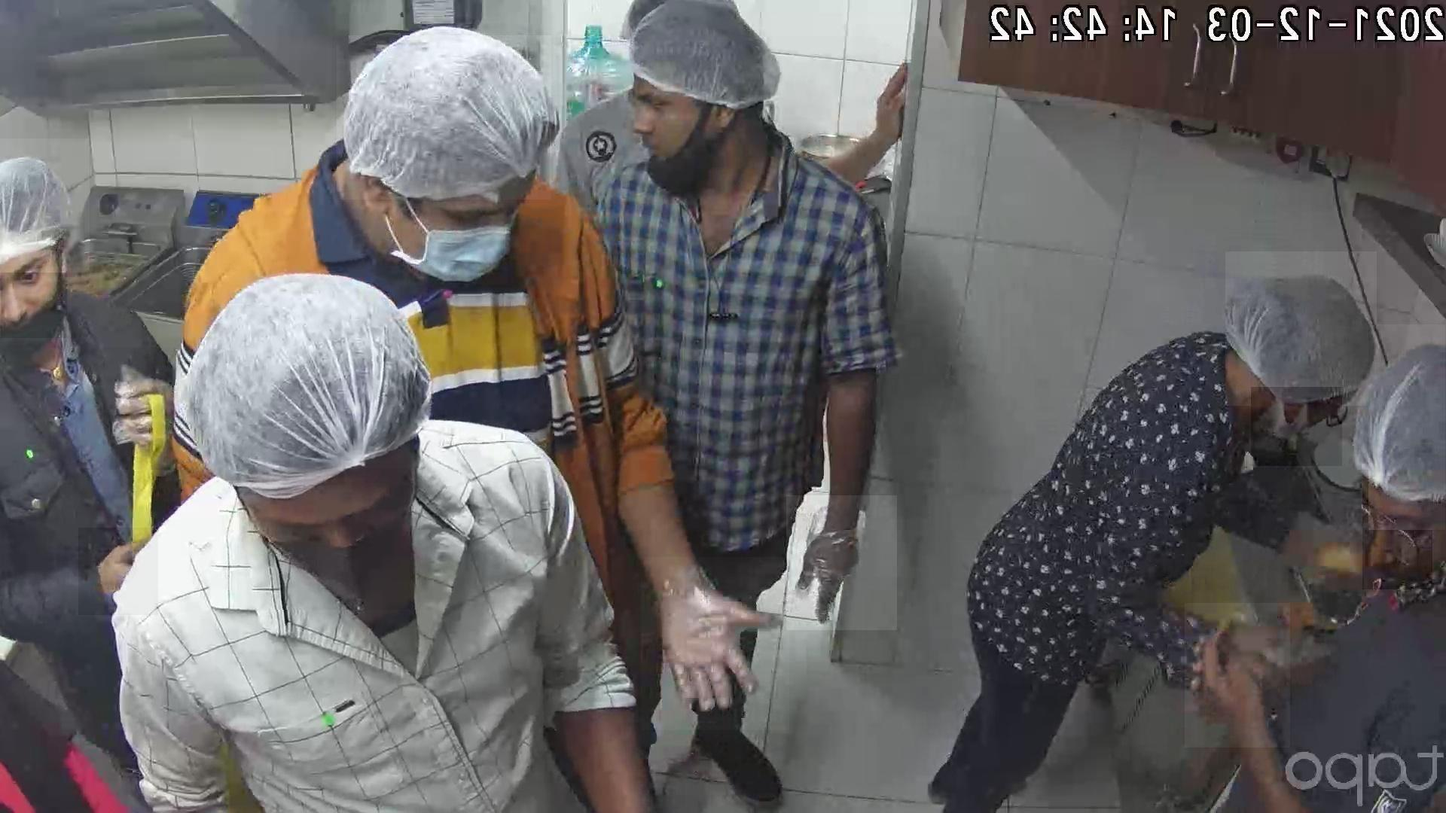apron: (641, 558, 789, 731), (786, 495, 897, 630), (104, 347, 180, 470)
gloves: (337, 36, 552, 200), (1226, 252, 1377, 406), (618, 3, 788, 107), (1369, 324, 1446, 530), (0, 139, 90, 273), (1362, 523, 1371, 528)
mask: (238, 468, 421, 610), (404, 172, 508, 284)
no_apron: (1185, 603, 1290, 748), (857, 33, 920, 154), (79, 528, 159, 615)
no_hairnet: (1363, 470, 1433, 590), (634, 78, 709, 176), (1251, 387, 1342, 466), (1, 251, 67, 338)
